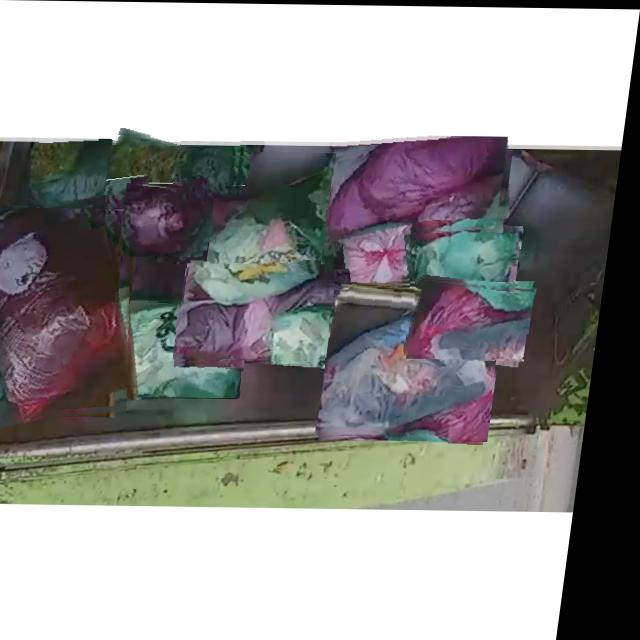general_trashbag: (216, 153, 361, 304), (120, 302, 255, 396), (39, 139, 159, 214), (416, 224, 527, 297), (114, 136, 241, 194)
other_trashbag: (0, 208, 140, 419), (331, 290, 503, 433), (334, 135, 510, 239), (184, 269, 358, 358), (416, 280, 539, 356), (333, 203, 420, 285), (129, 185, 211, 255)
